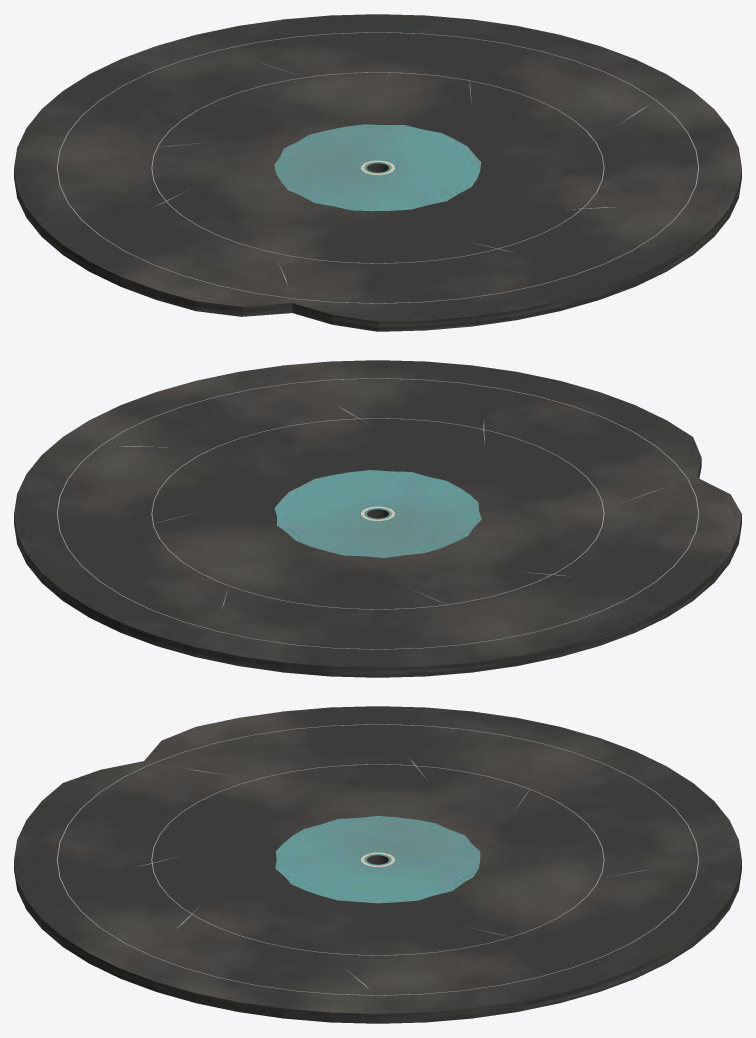
Rendered from P18_record_disc_v3.glb.
The picture shows the model from 3 angles, top to bottom: view 1: azimuth 30°, elevation 25°; view 2: azimuth 150°, elevation 25°; view 3: azimuth 270°, elevation 25°; orthographic projection.
Visible parts, largest first — view 1: Record_disc; view 2: Record_disc; view 3: Record_disc.
Part boxes in pixels (x1,y1,x2,y2): Record_disc: [14, 14, 741, 331]; Record_disc: [14, 360, 741, 677]; Record_disc: [14, 706, 741, 1023].
Bounding box in the file's own units: 0.3 × 0.00462 × 0.3.
4 materials, 4 textured.
